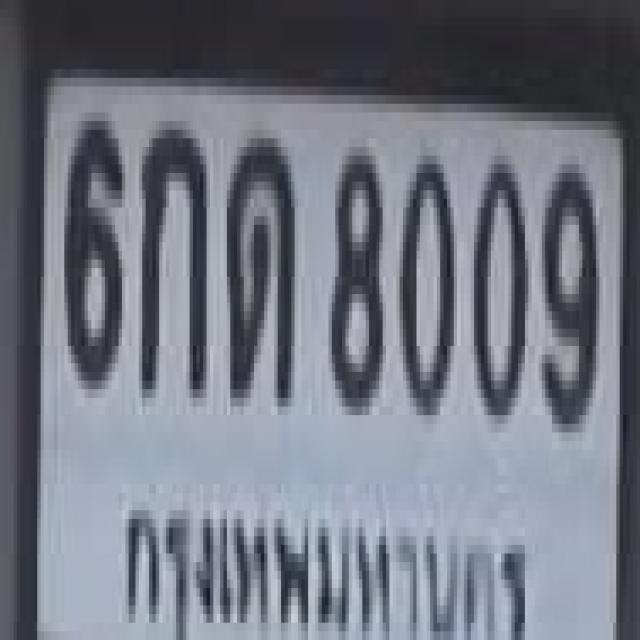0: (471, 143, 525, 411), (396, 143, 451, 402)
6: (61, 108, 118, 376)
8: (328, 134, 379, 402)
9: (538, 152, 596, 420)
A01: (139, 121, 203, 389)
A20: (224, 125, 291, 394)
BKK: (118, 486, 538, 640)
